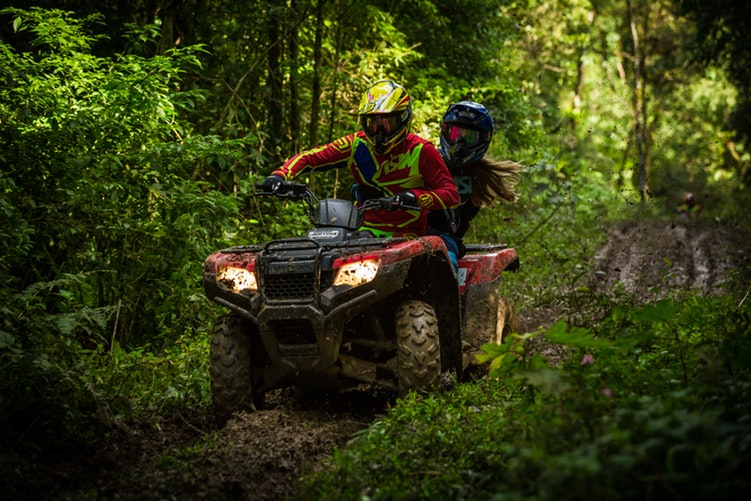helmet: (350, 75, 411, 160), (439, 99, 505, 164)
